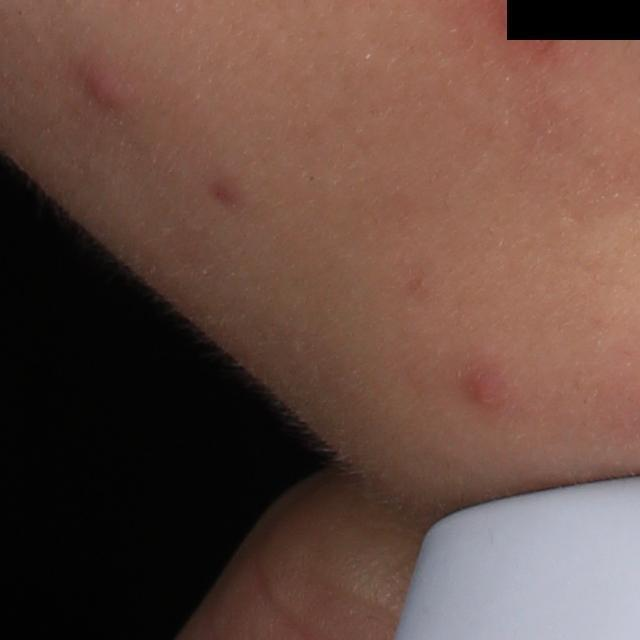papule: (457, 365, 509, 414), (83, 66, 132, 111)
